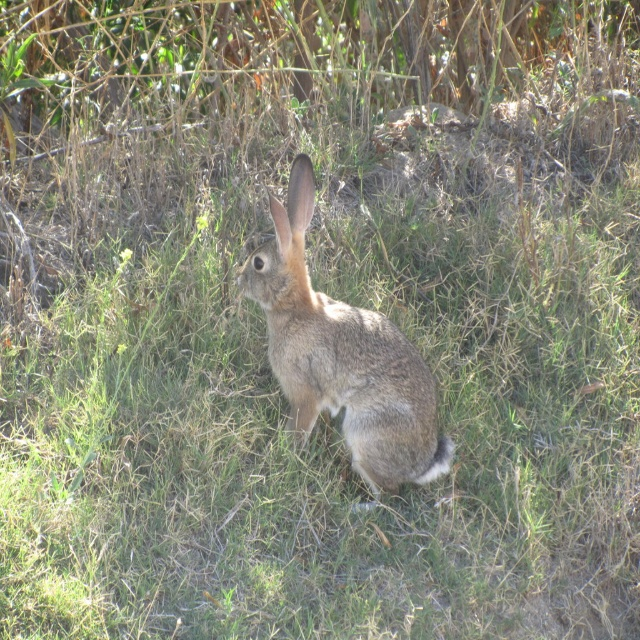Rabbit: (238, 152, 457, 513)
